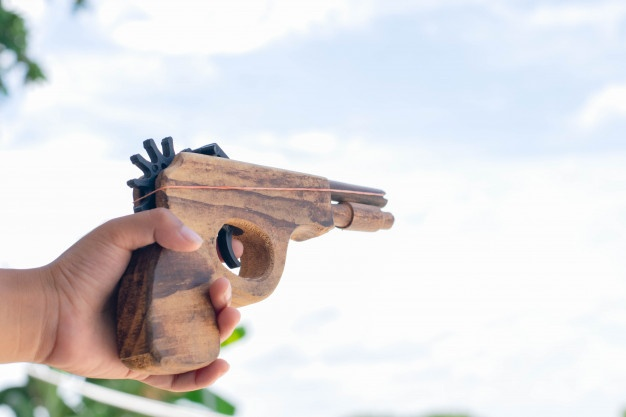Arma Falsa: (120, 135, 396, 383)
